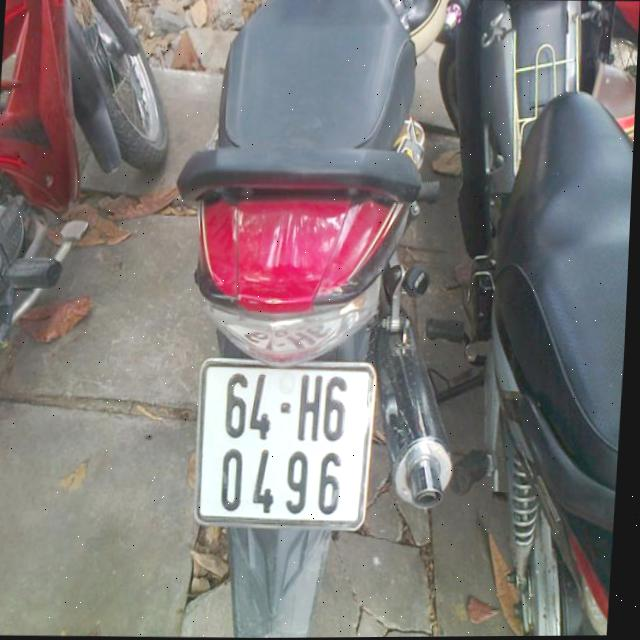motorcycle: (149, 0, 483, 639), (406, 0, 640, 637), (0, 0, 183, 406)
plate: (187, 353, 381, 536)
